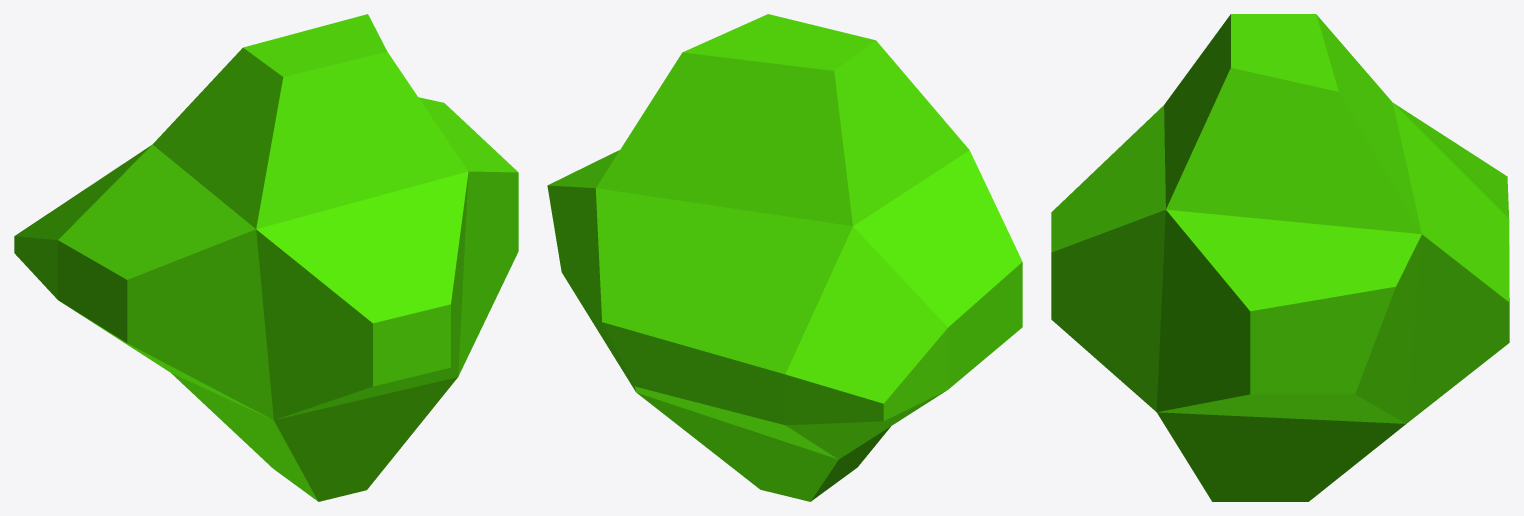
The model's file is debris.glb.
3 renders of one model, left to right at view 1: azimuth 30°, elevation 25°; view 2: azimuth 150°, elevation 25°; view 3: azimuth 270°, elevation 25°, orthographic. The views are drawn at different scales.
Parts seen in each view (by area): view 1: Suzanne; view 2: Suzanne; view 3: Suzanne.
Boxes of the visible parts, x1,y1,x2,y2 form: Suzanne: [14, 14, 518, 501]; Suzanne: [547, 14, 1022, 501]; Suzanne: [1051, 14, 1509, 501].
Size of the model in its own units: 1.21 by 1.25 by 1.15.
